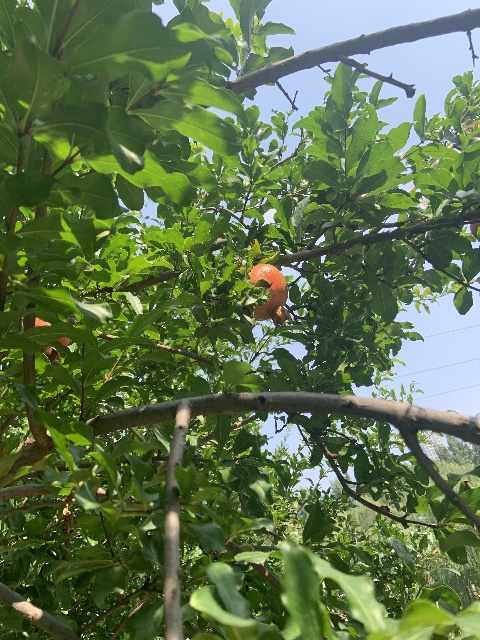ripe: (248, 263, 291, 326), (35, 317, 70, 363)
